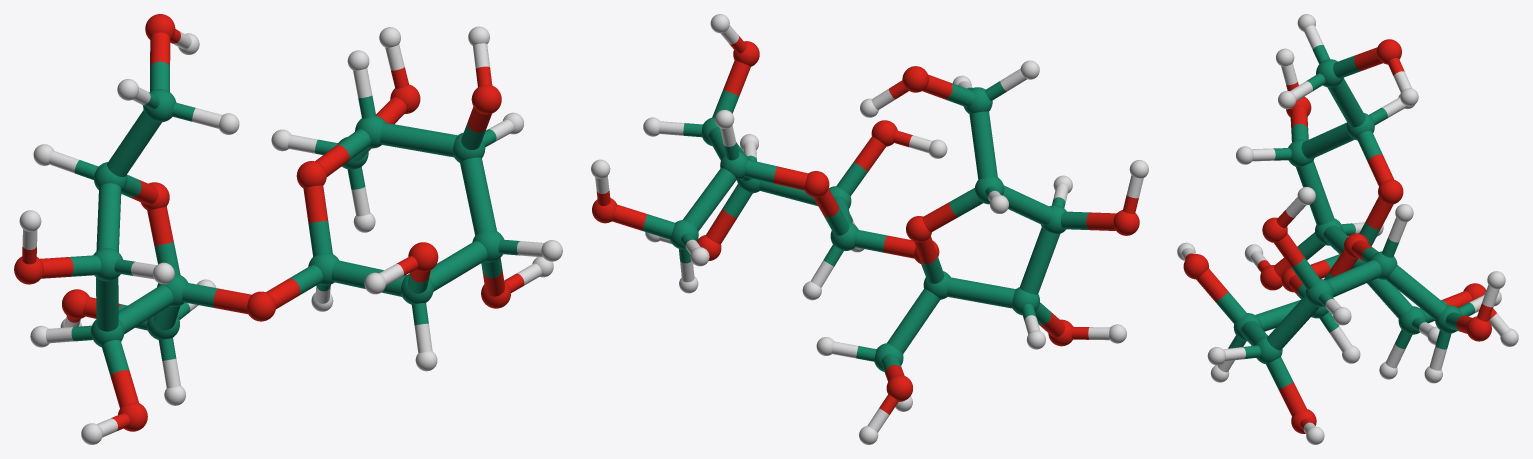
Rendered from sucrose.glb.
The picture shows the model from 3 angles, left to right: view 1: azimuth 30°, elevation 25°; view 2: azimuth 150°, elevation 25°; view 3: azimuth 270°, elevation 25°; orthographic projection. The views are drawn at different scales.
Size of the model in its own units: 9.62 by 6.57 by 6.12.
